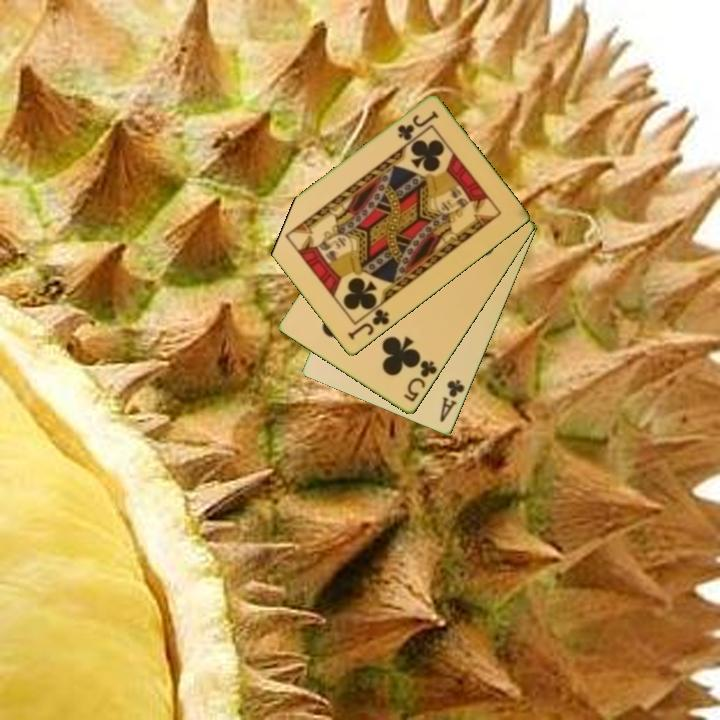5c: (400, 357, 440, 405)
Ac: (436, 376, 468, 425)
Jc: (344, 300, 393, 343), (394, 108, 441, 144)
